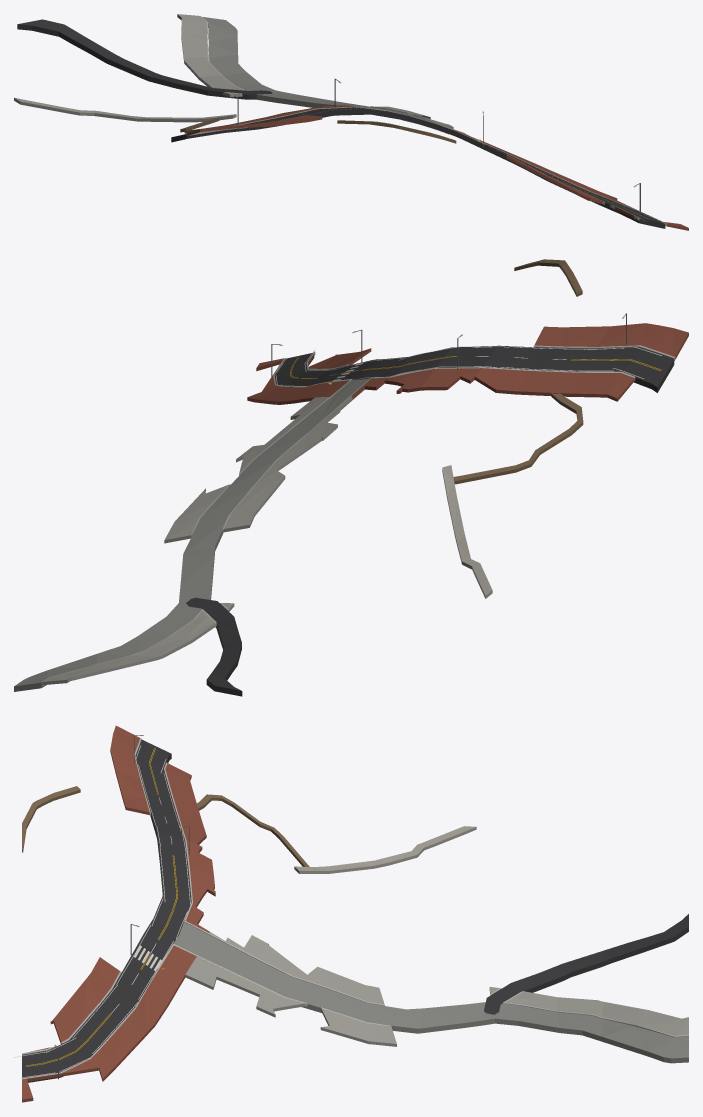
3 views of the same model, one above another, from view 1: azimuth 30°, elevation 25°; view 2: azimuth 150°, elevation 25°; view 3: azimuth 270°, elevation 25° (orthographic). The views are drawn at different scales.
Bounding box in the file's own units: 108 × 47.78 × 148.
